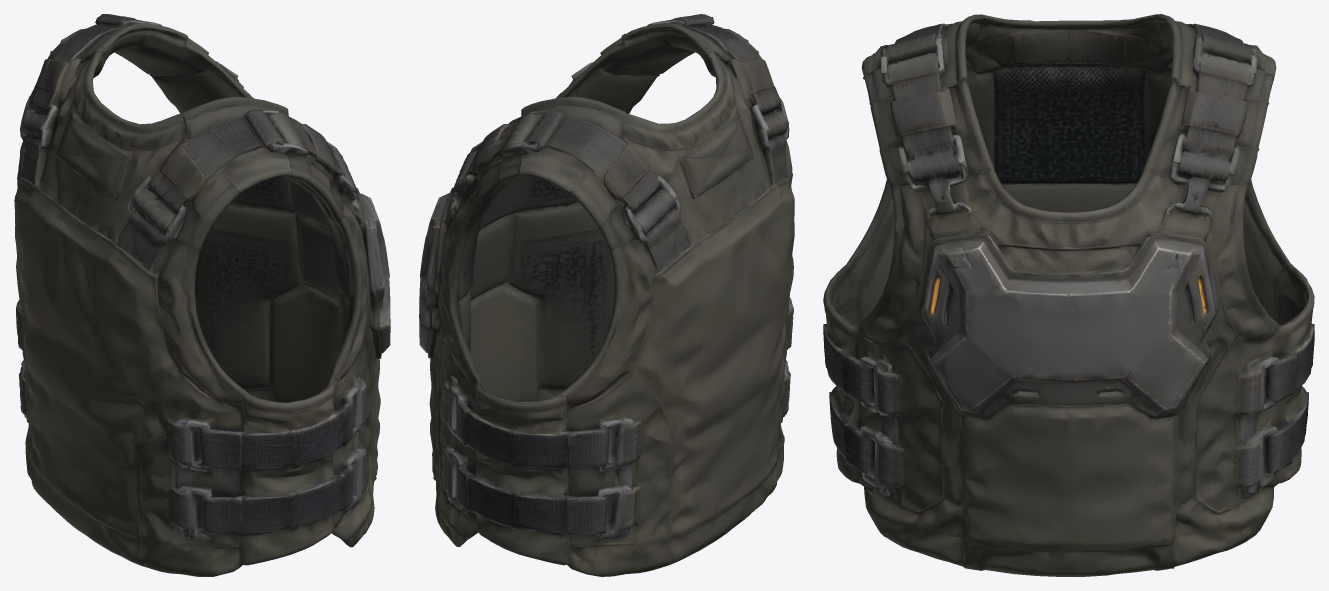
File: body-armor-i-v1.glb
The picture shows the model from 3 angles, left to right: view 1: azimuth 30°, elevation 25°; view 2: azimuth 150°, elevation 25°; view 3: azimuth 270°, elevation 25°; orthographic projection. The views are drawn at different scales.
Visible parts, largest first — view 1: tripo_node_c3d92c59-29c0-472f-b14a-c1a03a2fddad; view 2: tripo_node_c3d92c59-29c0-472f-b14a-c1a03a2fddad; view 3: tripo_node_c3d92c59-29c0-472f-b14a-c1a03a2fddad.
Part boxes in pixels (x1,y1,x2,y2): tripo_node_c3d92c59-29c0-472f-b14a-c1a03a2fddad: (14, 14, 390, 576); tripo_node_c3d92c59-29c0-472f-b14a-c1a03a2fddad: (419, 14, 794, 576); tripo_node_c3d92c59-29c0-472f-b14a-c1a03a2fddad: (823, 14, 1314, 576).
Size of the model in its own units: 0.6977 by 0.9794 by 0.9189.
1 material, 1 textured.
